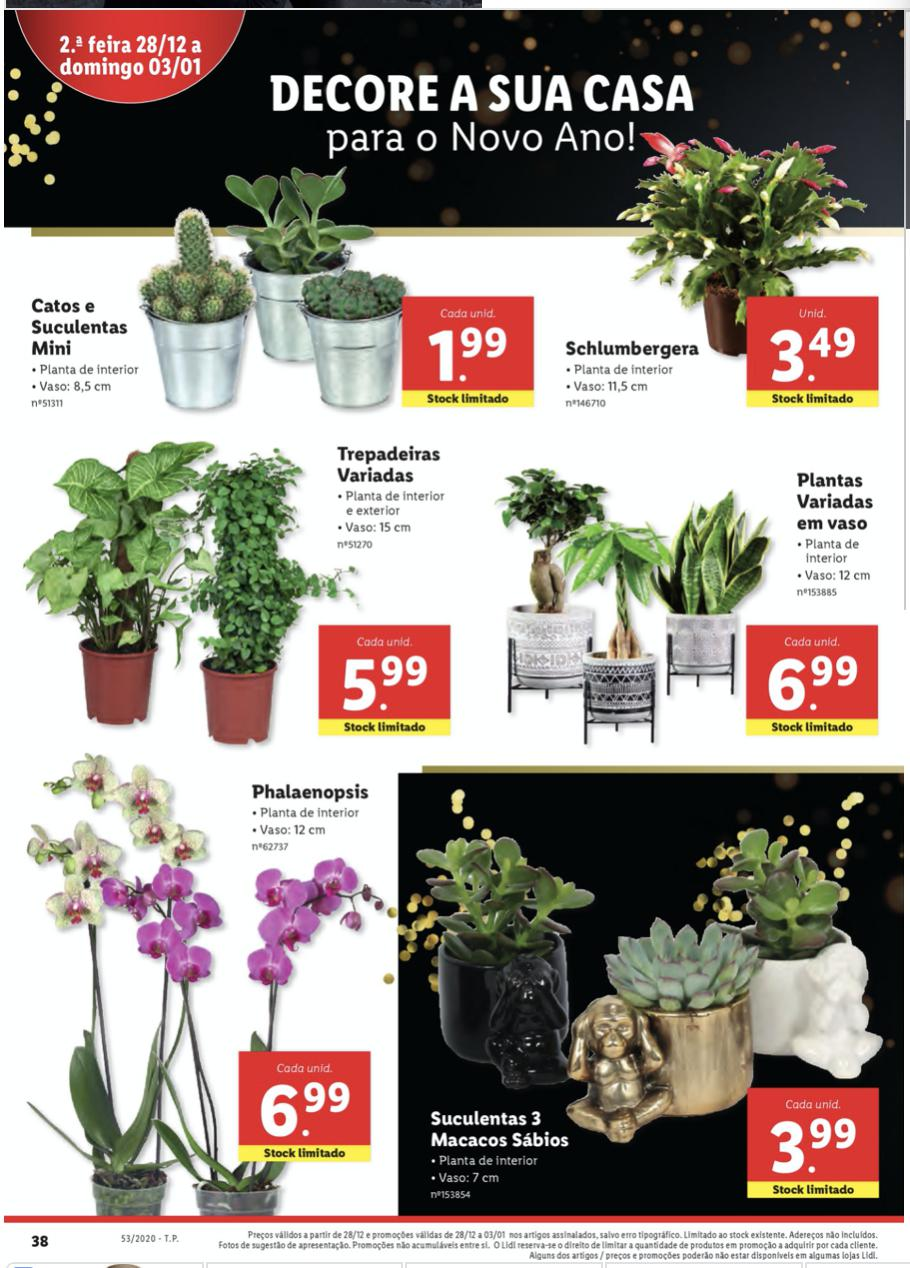name: (426, 1106, 580, 1156), (26, 295, 134, 358), (797, 469, 876, 538), (336, 442, 447, 485), (565, 333, 708, 364), (247, 780, 373, 806)
price: (761, 1114, 861, 1178), (259, 1078, 353, 1144), (767, 324, 861, 388), (769, 650, 859, 714), (339, 653, 431, 713), (428, 328, 511, 389)
product: (414, 792, 890, 1210), (8, 744, 378, 1213), (8, 427, 464, 756), (8, 156, 548, 417), (481, 444, 901, 753), (562, 125, 895, 433)
